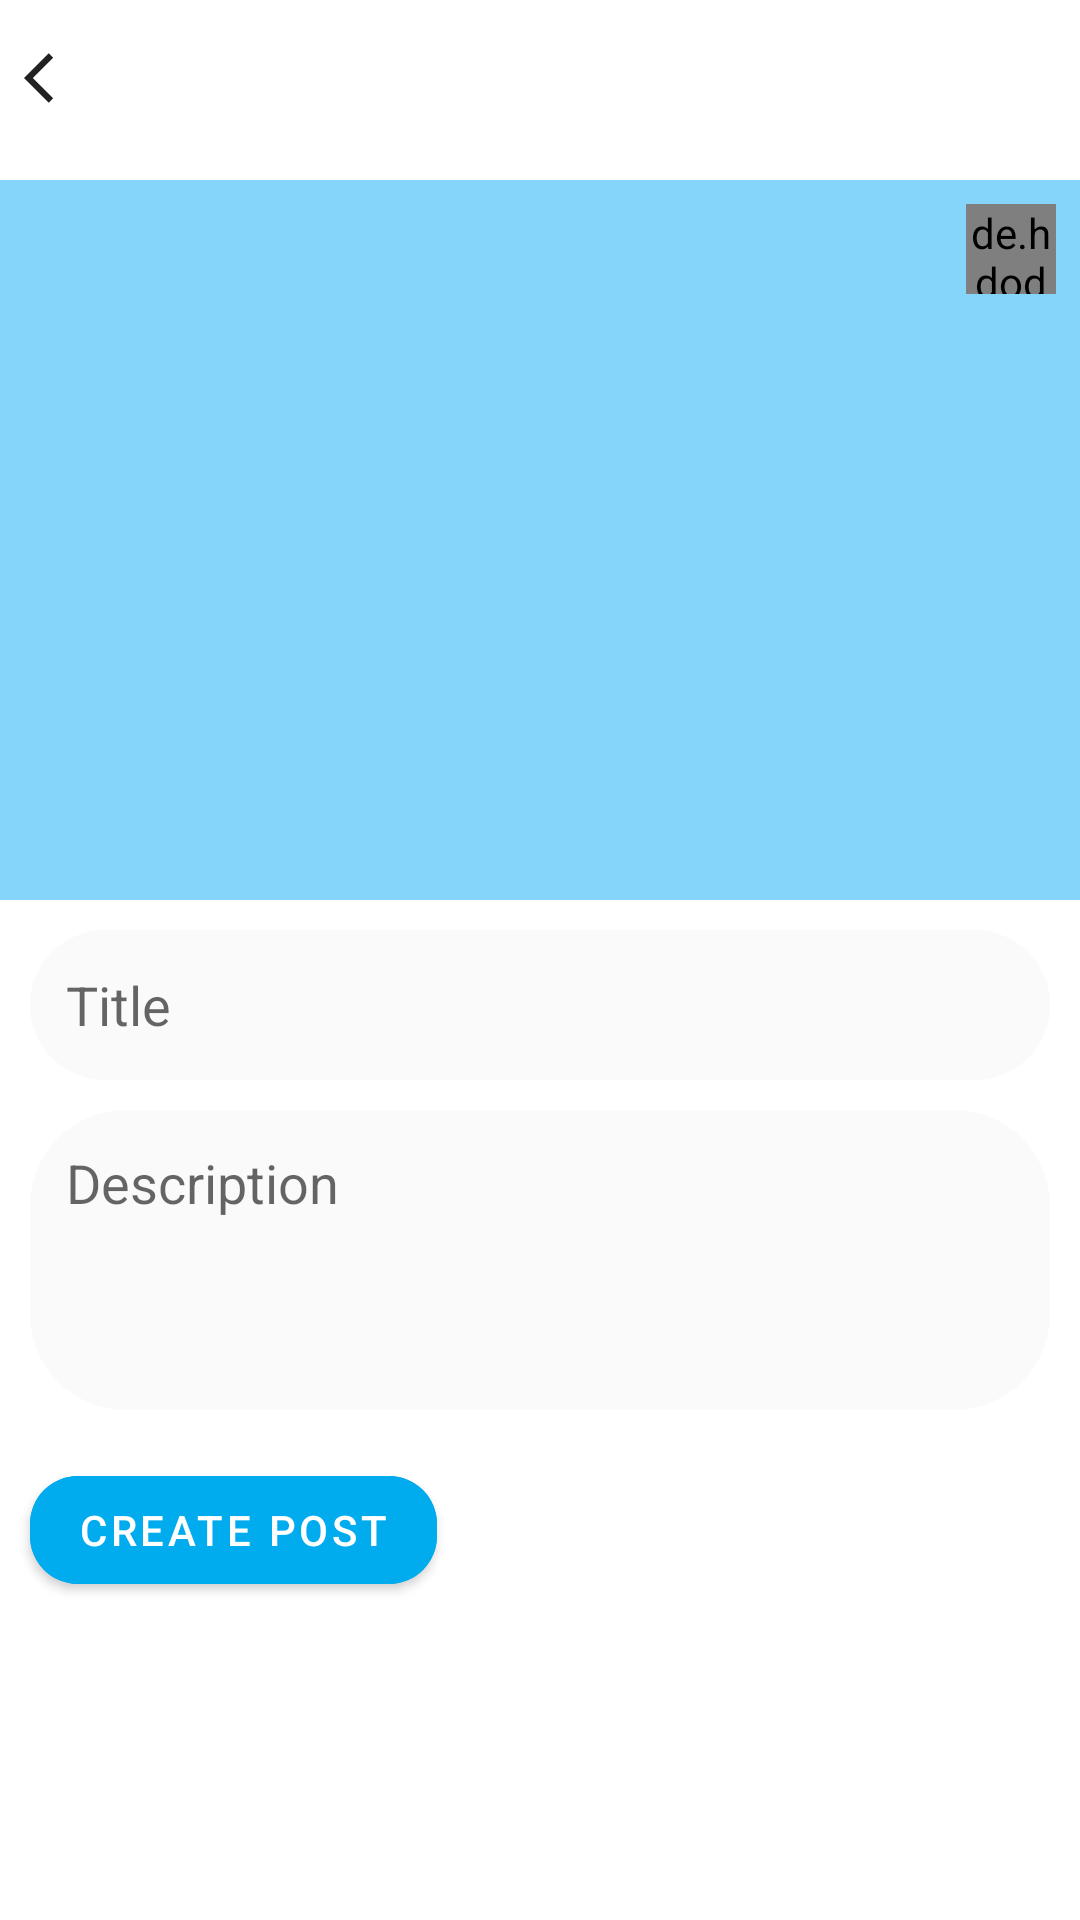

Screen size 1080px×1920px. Icon name, then its center in pixels as (x=x, y=y):
back: (x=38, y=78)
